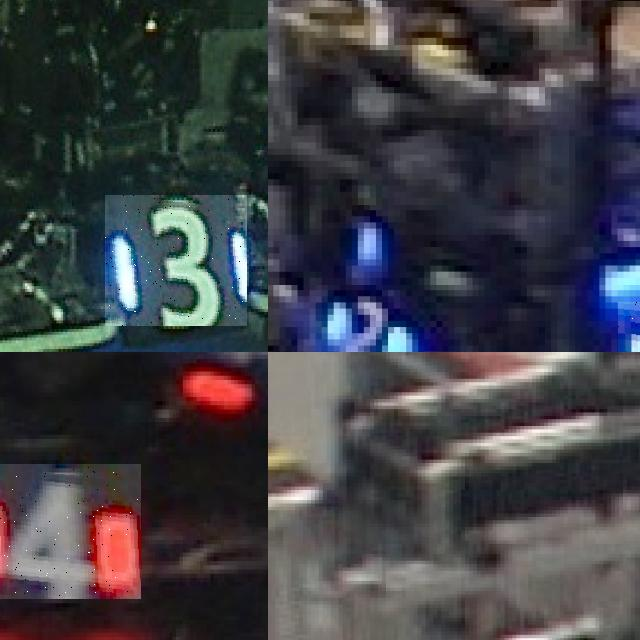B2: (321, 290, 412, 352)
B3: (105, 195, 247, 326)
R4: (0, 464, 141, 598)
